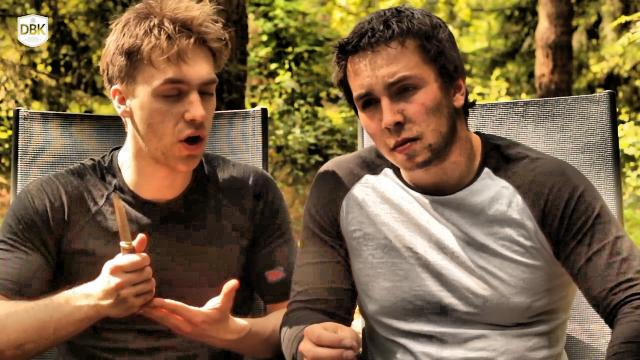knife: (101, 182, 160, 290)
